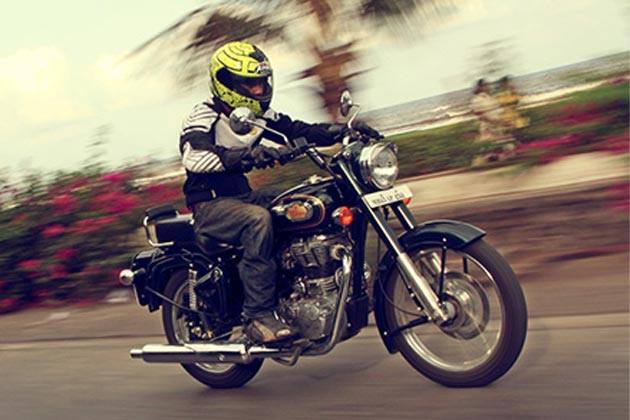helmet: (206, 46, 286, 121)
